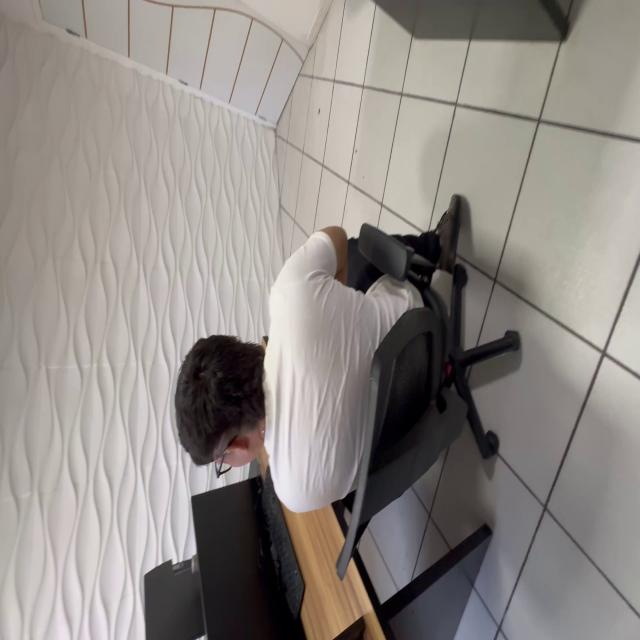sentado: (173, 195, 520, 574)
